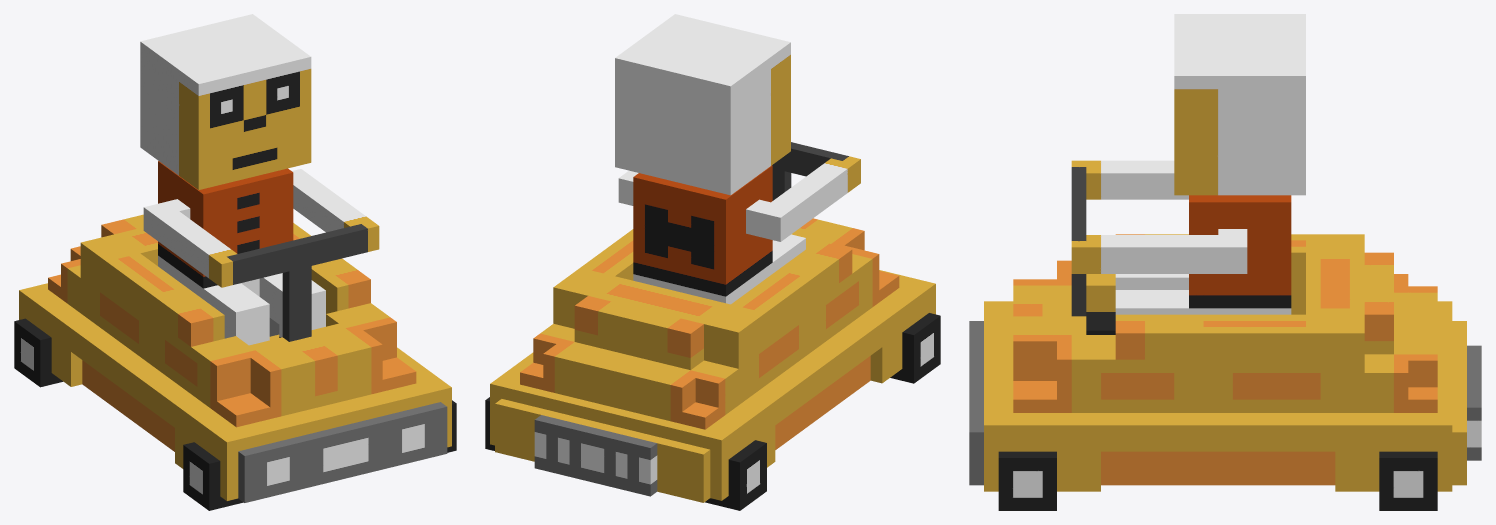
File: Character_6.fbx
3 views of the same model, side by side, from view 1: azimuth 30°, elevation 25°; view 2: azimuth 150°, elevation 25°; view 3: azimuth 270°, elevation 25° (orthographic). The views are drawn at different scales.
Parts seen in each view (by area): view 1: Character_6; view 2: Character_6; view 3: Character_6.
Part boxes in pixels (left/top/right/bottom): Character_6: left=14, top=14, right=456, bottom=510; Character_6: left=485, top=14, right=940, bottom=510; Character_6: left=969, top=14, right=1481, bottom=510.
Bounding box in the file's own units: 22 × 30 × 35.
Materials: 1 (1 with a texture image).
